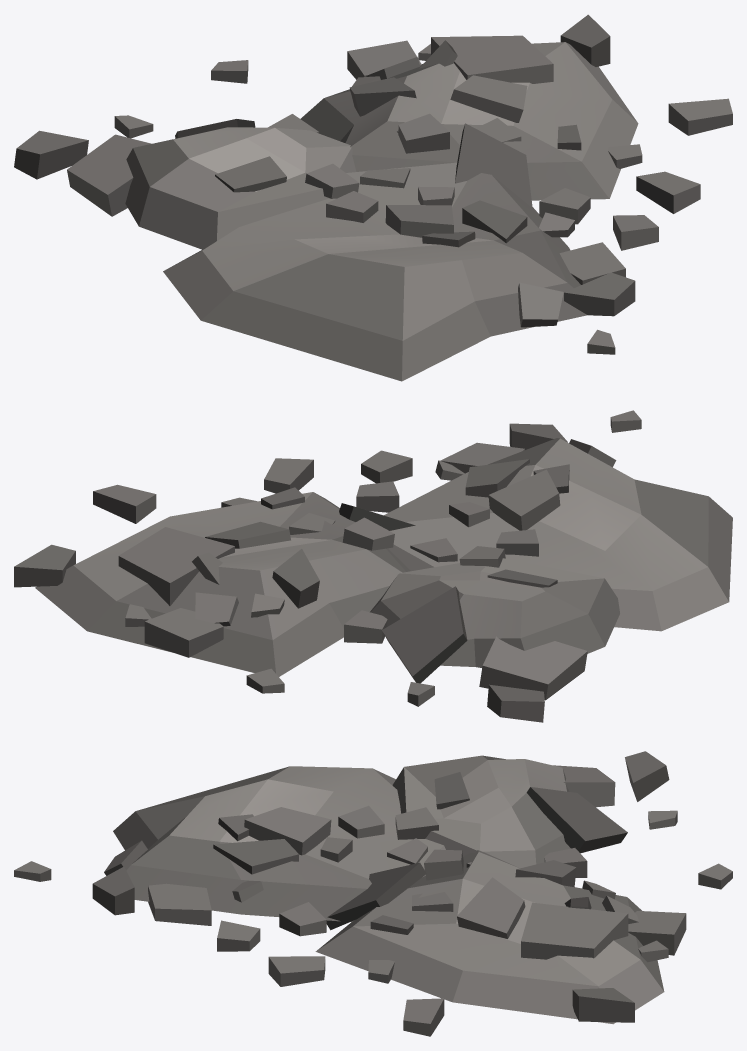
Rendered from SA_Bld_CoolingTowerLarge_Rubble_01.gltf.
The picture shows the model from 3 angles, top to bottom: view 1: azimuth 30°, elevation 25°; view 2: azimuth 150°, elevation 25°; view 3: azimuth 270°, elevation 25°; orthographic projection. The views are drawn at different scales.
Visible parts, largest first — view 1: SA_Bld_CoolingTowerLarge_Rubble_01; view 2: SA_Bld_CoolingTowerLarge_Rubble_01; view 3: SA_Bld_CoolingTowerLarge_Rubble_01.
Part boxes in pixels (<box>): SA_Bld_CoolingTowerLarge_Rubble_01: <box>14,14,732,381</box>; SA_Bld_CoolingTowerLarge_Rubble_01: <box>14,410,732,722</box>; SA_Bld_CoolingTowerLarge_Rubble_01: <box>14,751,732,1036</box>.
Size of the model in its own units: 45.17 by 5.81 by 51.42.
Materials: 1 (1 with a texture image).
